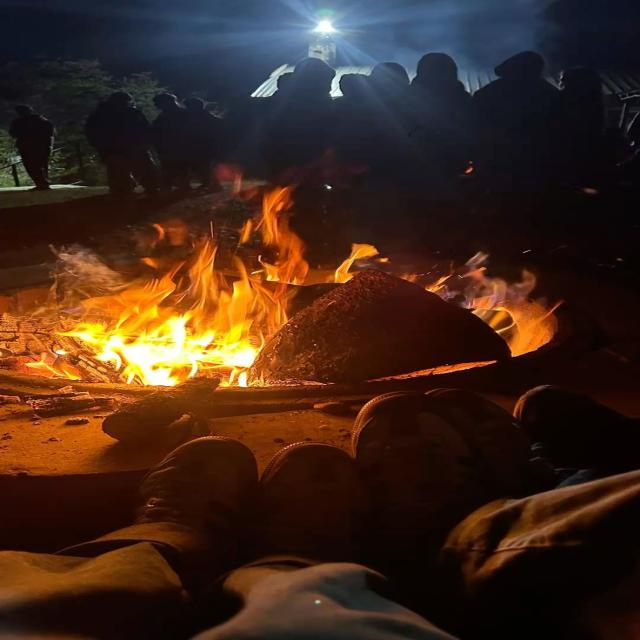fire: (56, 313, 259, 388)
